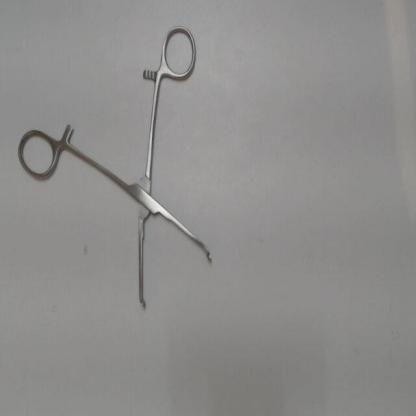Allis Tissue Forceps: (11, 15, 224, 322)
